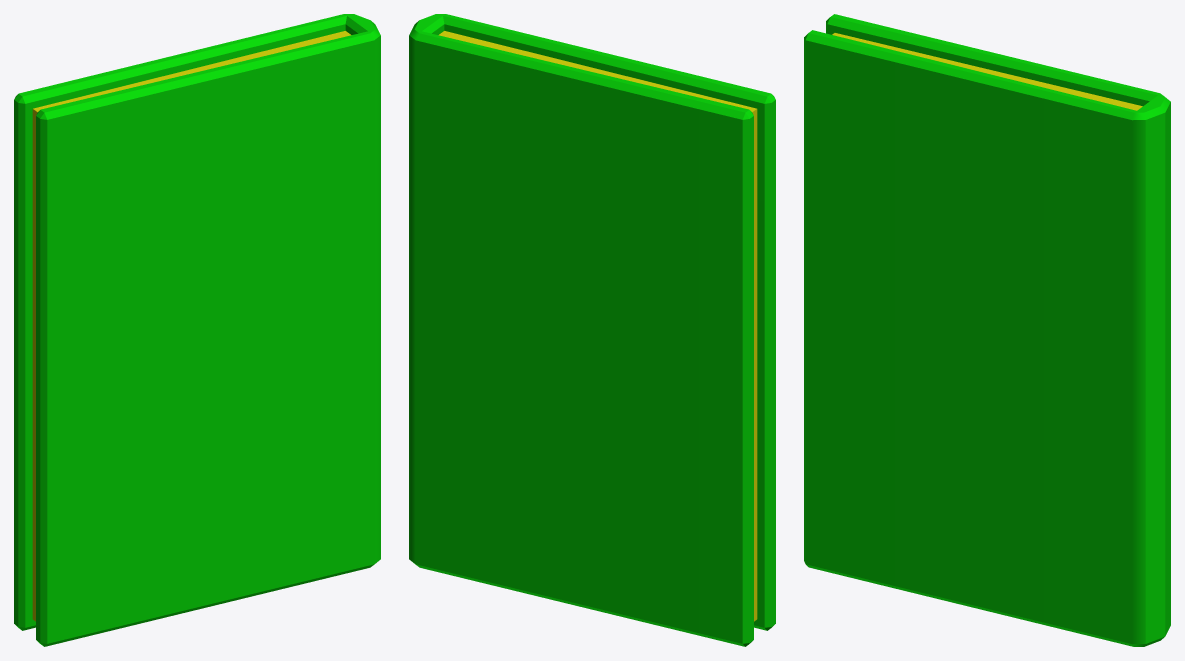
The model's file is normal_book.fbx.
3 views of the same model, side by side, from view 1: azimuth 30°, elevation 25°; view 2: azimuth 150°, elevation 25°; view 3: azimuth 330°, elevation 25° (orthographic).
Visible parts, largest first — view 1: book_3; view 2: book_3; view 3: book_3.
Part boxes in pixels (left/top/right/bottom): book_3: left=14, top=14, right=380, bottom=646; book_3: left=409, top=14, right=775, bottom=646; book_3: left=804, top=14, right=1170, bottom=646.
Size of the model in its own units: 2.8 by 4.1 by 0.4474.
